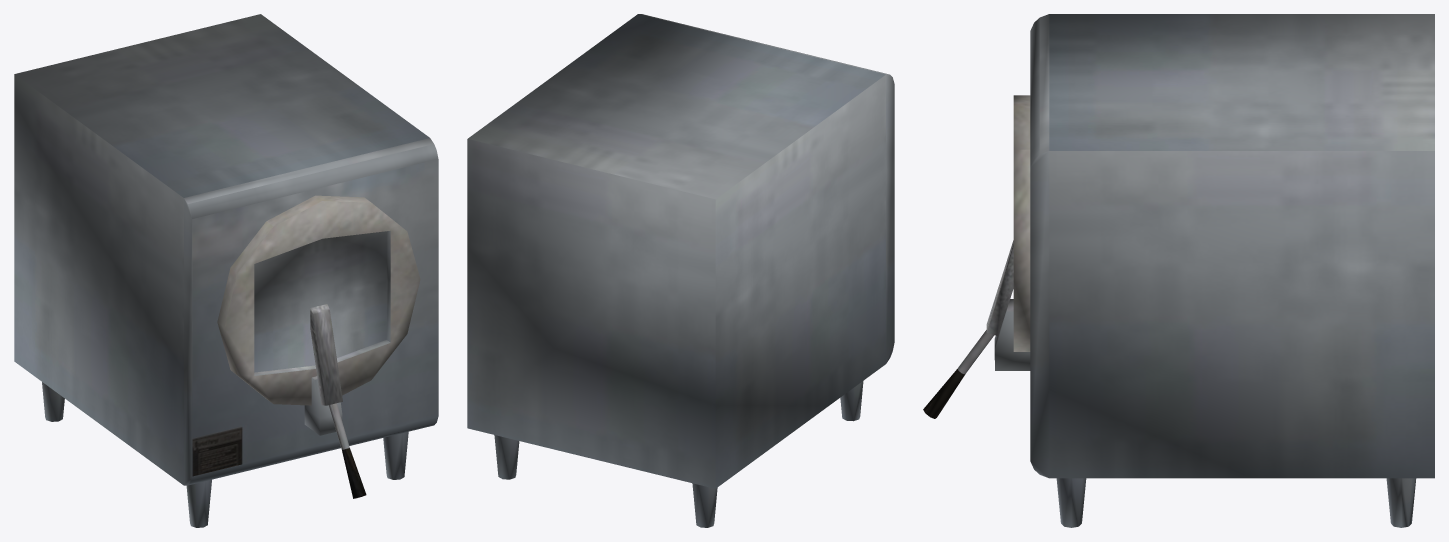
Rendered from BreadMachine_Galley.obj.
3 renders of one model, left to right at view 1: azimuth 30°, elevation 25°; view 2: azimuth 150°, elevation 25°; view 3: azimuth 270°, elevation 25°, orthographic. The views are drawn at different scales.
Parts seen in each view (by area): view 1: BreadMachine_Galley.obj; view 2: BreadMachine_Galley.obj; view 3: BreadMachine_Galley.obj.
Boxes of the visible parts, x1,y1,x2,y2 form: BreadMachine_Galley.obj: [14, 14, 438, 527]; BreadMachine_Galley.obj: [467, 14, 894, 527]; BreadMachine_Galley.obj: [923, 14, 1434, 527].
Size of the model in its own units: 1.98 by 2.6 by 3.12.
